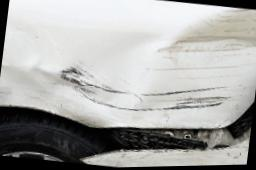Bumper: (78, 119, 249, 169)
Fender: (0, 0, 256, 143)
